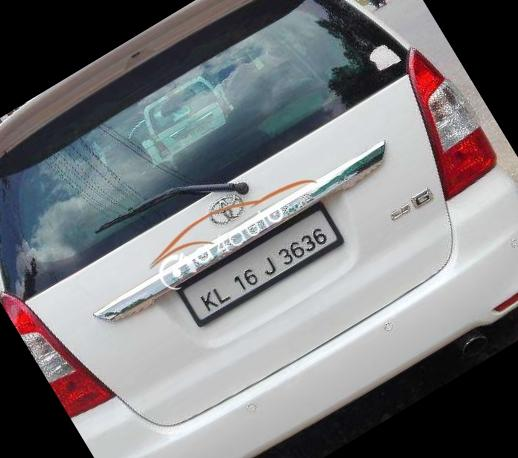plate: (168, 185, 363, 341)
